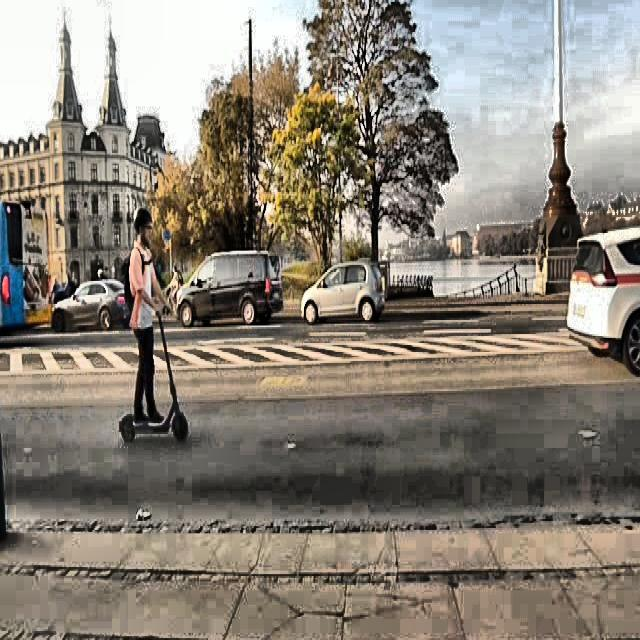ellobehjul: (117, 300, 191, 452)
